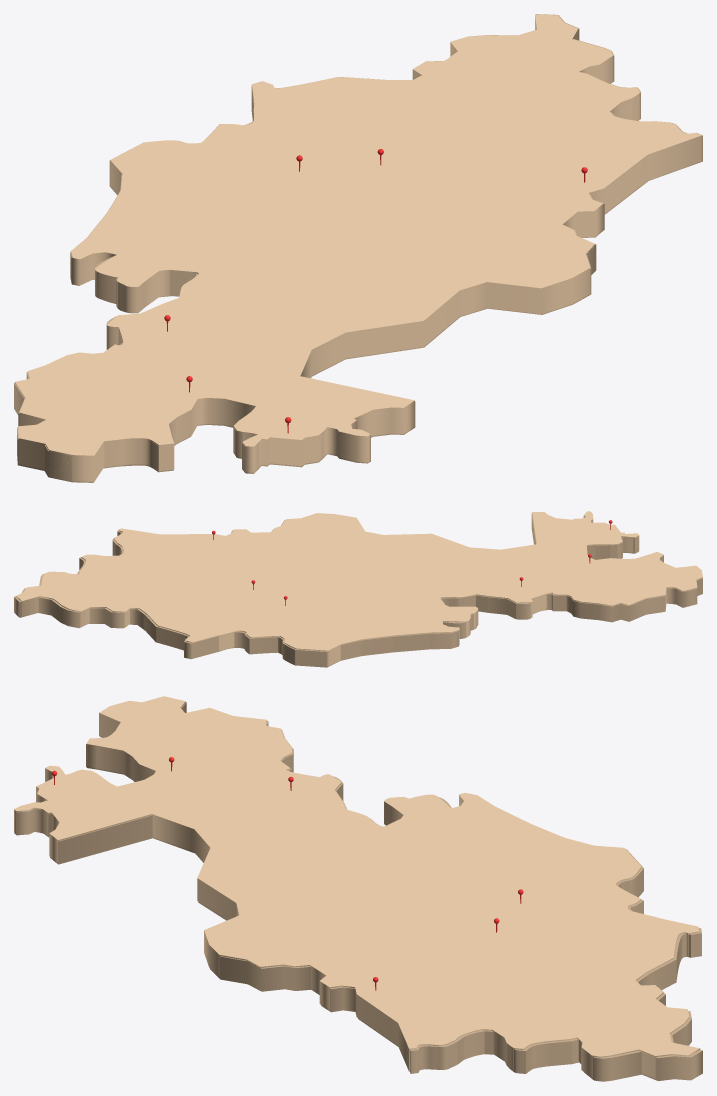
File: map.glb
The picture shows the model from 3 angles, top to bottom: view 1: azimuth 30°, elevation 25°; view 2: azimuth 150°, elevation 25°; view 3: azimuth 270°, elevation 25°; orthographic projection. The views are drawn at different scales.
Parts seen in each view (by area): view 1: Curve.001, Curve; view 2: Curve.001, Curve; view 3: Curve.001, Curve.
Boxes of the visible parts, left/top/right/bottom form: Curve.001: left=15, top=14, right=701, bottom=481; Curve: left=14, top=14, right=702, bottom=482; Curve.001: left=16, top=511, right=702, bottom=665; Curve: left=14, top=513, right=702, bottom=667; Curve.001: left=14, top=696, right=700, bottom=1078; Curve: left=14, top=702, right=702, bottom=1081.
Size of the model in its own units: 6.87 by 0.3363 by 5.53.
